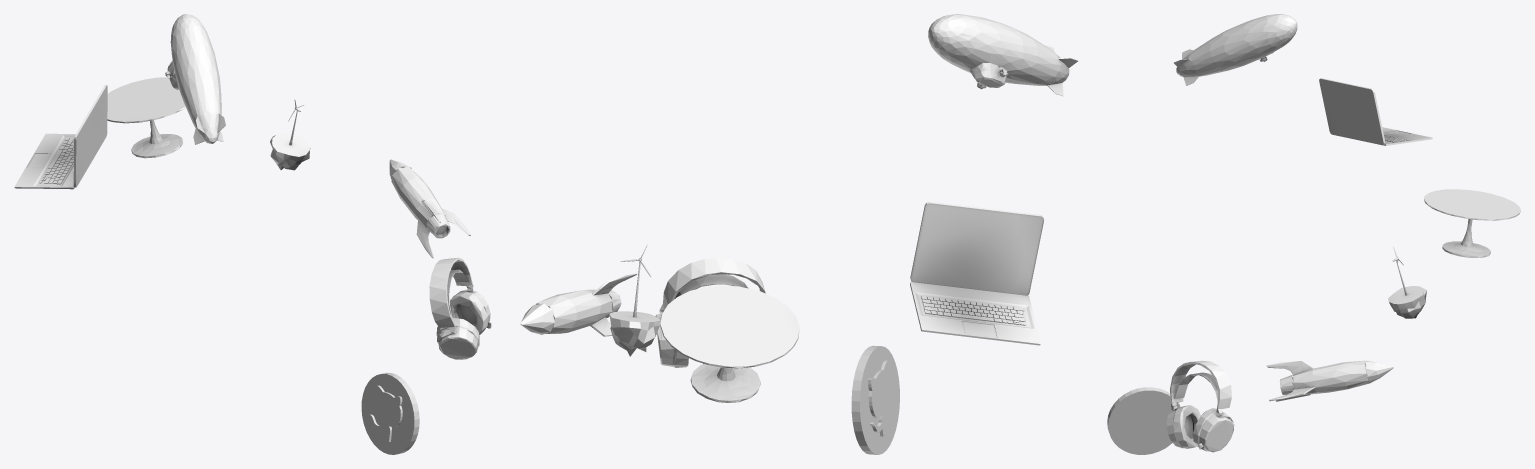
The model's file is home.glb.
The picture shows the model from 3 angles, left to right: view 1: azimuth 30°, elevation 25°; view 2: azimuth 150°, elevation 25°; view 3: azimuth 270°, elevation 25°; orthographic projection. The views are drawn at different scales.
Visible parts, largest first — view 1: Zeppelin, Headphones, Notebook, Table, Github, Rocket, Roundcube.001; view 2: Notebook, Table, Zeppelin, Github, Rocket, Headphones, Roundcube.001; view 3: Zeppelin, Headphones, Notebook, Github, Table, Rocket, Roundcube.001.
Part boxes in pixels (left/top/right/bottom): Zeppelin: left=165, top=14, right=225, bottom=144; Headphones: left=429, top=257, right=491, bottom=359; Notebook: left=14, top=85, right=107, bottom=189; Table: left=107, top=77, right=185, bottom=158; Github: left=361, top=372, right=419, bottom=454; Rocket: left=389, top=159, right=470, bottom=258; Roundcube.001: left=270, top=99, right=310, bottom=170; Notebook: left=910, top=201, right=1044, bottom=345; Table: left=660, top=285, right=799, bottom=402; Zeppelin: left=928, top=14, right=1078, bottom=96; Github: left=851, top=345, right=899, bottom=454; Rocket: left=520, top=272, right=637, bottom=336; Headphones: left=655, top=258, right=765, bottom=367; Roundcube.001: left=609, top=244, right=660, bottom=356; Zeppelin: left=1174, top=14, right=1297, bottom=85; Headphones: left=1166, top=360, right=1234, bottom=452; Notebook: left=1319, top=78, right=1432, bottom=145; Github: left=1107, top=387, right=1180, bottom=454; Table: left=1424, top=189, right=1520, bottom=257; Rocket: left=1266, top=360, right=1393, bottom=401; Roundcube.001: left=1388, top=246, right=1426, bottom=318.
Bounding box in the file's own units: 21.61 × 21.32 × 20.92.
Materials: 7 (6 with a texture image).
